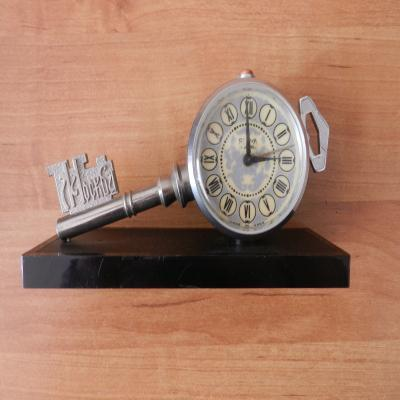technique: (21, 71, 352, 290)
